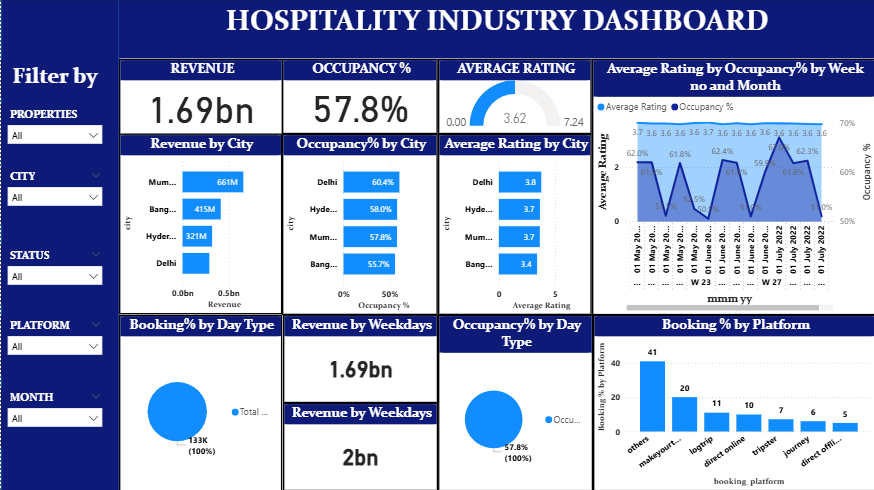

What the dashboard file says about the page in this screenshot:
{"tool":"powerbi","page":{"name":"Page 1","canvas":[1280,720],"ordinal":0},"visuals":[{"type":"shape","box":[0,0,173,720.6],"z":0},{"type":"textbox","box":[0,87.8,158,55.6],"z":1000},{"type":"slicer","fields":{"Values":["dim_rooms.room_class"]},"box":[0,153.7,158,86.3],"z":2000},{"type":"slicer","fields":{"Values":["dim_hotels.city"]},"box":[0,244.4,158,86.3],"z":3000},{"type":"slicer","fields":{"Values":["fact_bookings.booking_status"]},"box":[0,360,158,86.3],"z":4000},{"type":"slicer","fields":{"Values":["fact_bookings.booking_platform"]},"box":[0,462.4,158,87.8],"z":5000},{"type":"slicer","fields":{"Values":["dim_date.mmm yy"]},"box":[0,567.8,158,87.8],"z":6000},{"type":"card","title":"Revenue by Weekdays","fields":{"Values":["Key_Measures.Revenue"]},"box":[412.7,462.4,226.8,128.8],"z":7000},{"type":"card","title":"OCCUPANCY %","fields":{"Values":["Key_Measures.Occupancy %"]},"box":[411.2,87.8,228.3,109.8],"z":8000},{"type":"gauge","title":"AVERAGE RATING","fields":{"Y":["Key_Measures.Average Rating"]},"box":[639.5,87.8,225.4,109.8],"z":9000},{"type":"textbox","box":[173,0,1107,87.3],"z":10000},{"type":"clusteredBarChart","title":"Revenue by City","fields":{"Y":["Key_Measures.Revenue"],"Category":["dim_hotels.city"]},"box":[173,198.2,238.5,263.7],"z":11000},{"type":"clusteredBarChart","title":"Occupancy% by City","fields":{"Category":["dim_hotels.city"],"Y":["Key_Measures.Occupancy %"]},"box":[411.2,197.6,228.3,264.9],"z":12000},{"type":"clusteredBarChart","title":"Average Rating by City","fields":{"Category":["dim_hotels.city"],"Y":["Key_Measures.Average Rating"]},"box":[639.5,197.6,225.4,264.9],"z":13000},{"type":"areaChart","title":"Average Rating by Occupancy% by Week no and Month","fields":{"Y2":["Key_Measures.Occupancy %"],"Category":["dim_date.week no","dim_date.mmm yy.Variation.Date Hierarchy.Month"],"Y":["Key_Measures.Average Rating"]},"box":[864.9,87.8,415.6,374.6],"z":14000},{"type":"pieChart","title":"Booking% by Day Type","fields":{"Y":["Key_Measures.Total Bookings"]},"box":[173,461.9,238.5,258.7],"z":15000},{"type":"pieChart","title":"Occupancy% by Day Type","fields":{"Y":["Key_Measures.Occupancy %"]},"box":[639.5,462.4,226.8,257.6],"z":16000},{"type":"card","title":"REVENUE","fields":{"Values":["Key_Measures.Revenue"]},"box":[173,87.3,240.2,110.9],"z":17000},{"type":"card","title":"Revenue by Weekdays","fields":{"Values":["Key_Measures.Revenue"]},"box":[412.7,591.2,226.8,128.8],"z":18000},{"type":"clusteredColumnChart","title":"Booking % by Platform","fields":{"Y":["Key_Measures.Booking % by Platform"],"Category":["fact_bookings.booking_platform"]},"box":[866.3,462.4,414.1,257.6],"z":19000}]}

Visuals, with their boxes in screenshot pixels (x1, y1, x2, y2), scaled from the page's 1280x720 canvas onto the 874x490 screenshot:
shape: rect(0, 0, 118, 489)
textbox: rect(0, 60, 108, 98)
slicer - dim_rooms.room_class: rect(0, 105, 108, 163)
slicer - dim_hotels.city: rect(0, 166, 108, 225)
slicer - fact_bookings.booking_status: rect(0, 245, 108, 304)
slicer - fact_bookings.booking_platform: rect(0, 315, 108, 374)
slicer - dim_date.mmm yy: rect(0, 386, 108, 446)
"Revenue by Weekdays" card: rect(282, 315, 437, 402)
"OCCUPANCY %" card: rect(281, 60, 437, 134)
"AVERAGE RATING" gauge: rect(437, 60, 591, 134)
textbox: rect(118, 0, 873, 59)
"Revenue by City" clusteredBarChart: rect(118, 135, 281, 314)
"Occupancy% by City" clusteredBarChart: rect(281, 134, 437, 315)
"Average Rating by City" clusteredBarChart: rect(437, 134, 591, 315)
"Average Rating by Occupancy% by Week no and Month" areaChart: rect(591, 60, 873, 315)
"Booking% by Day Type" pieChart: rect(118, 314, 281, 489)
"Occupancy% by Day Type" pieChart: rect(437, 315, 592, 489)
"REVENUE" card: rect(118, 59, 282, 135)
"Revenue by Weekdays" card: rect(282, 402, 437, 489)
"Booking % by Platform" clusteredColumnChart: rect(592, 315, 873, 489)
